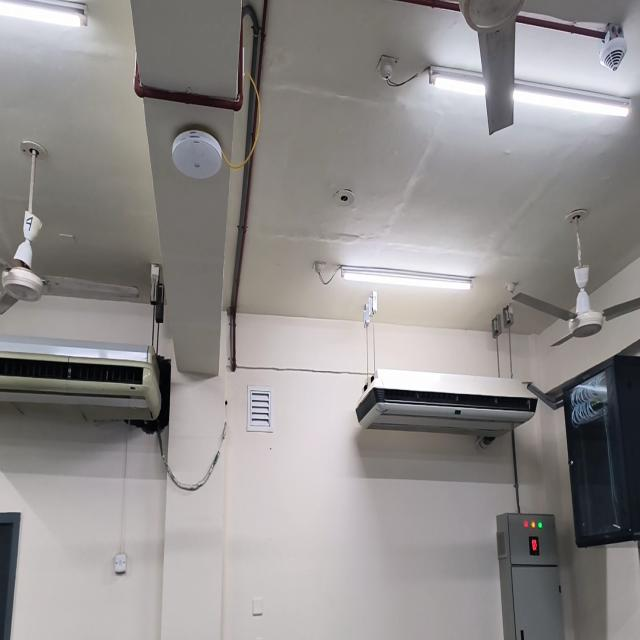Ac: (355, 368, 537, 447), (0, 336, 160, 422)
Light: (430, 67, 631, 120), (313, 261, 474, 290), (0, 0, 87, 26)
